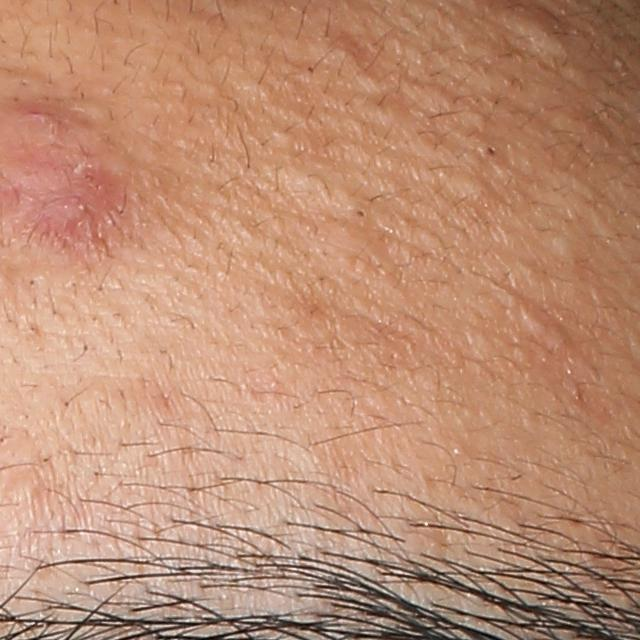comedo: (0, 471, 43, 506), (449, 170, 494, 200), (525, 306, 559, 341), (550, 231, 573, 255), (348, 203, 372, 224), (477, 141, 500, 161)
